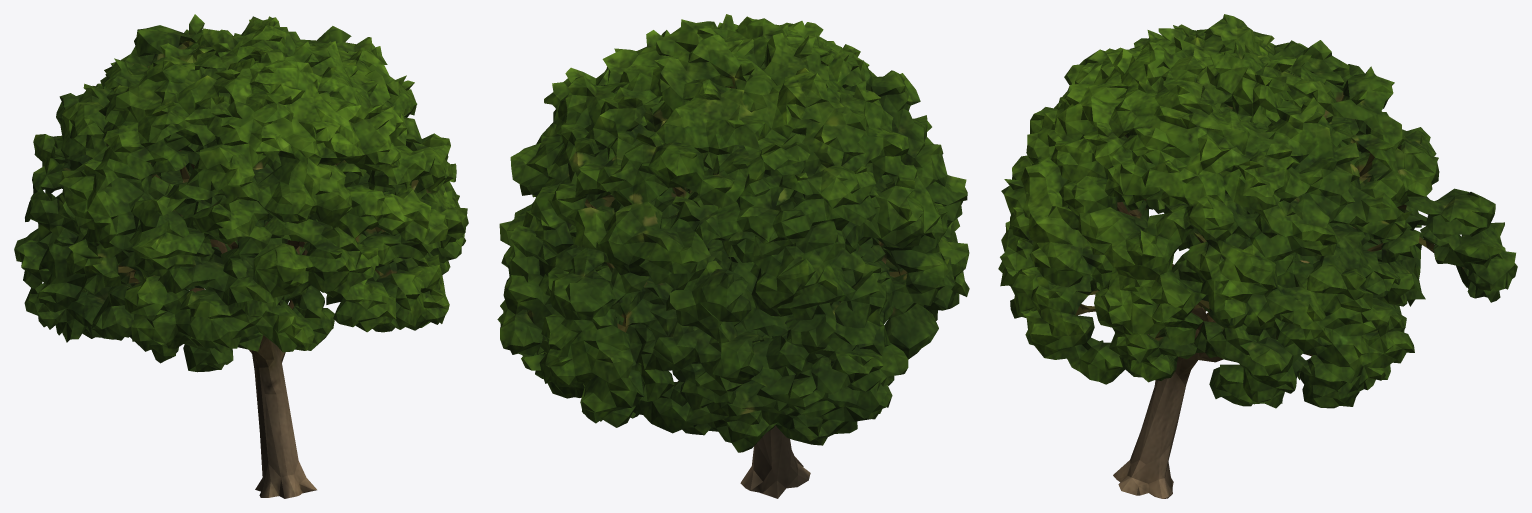
File: tree.fbx
3 renders of one model, left to right at view 1: azimuth 30°, elevation 25°; view 2: azimuth 150°, elevation 25°; view 3: azimuth 270°, elevation 25°, orthographic. The views are drawn at different scales.
Visible parts, largest first — view 1: Mesh_0; view 2: Mesh_0; view 3: Mesh_0.
Boxes of the visible parts, x1=… form: Mesh_0: x1=14, y1=14, x2=468, y2=498; Mesh_0: x1=497, y1=14, x2=969, y2=498; Mesh_0: x1=998, y1=14, x2=1517, y2=498.
Size of the model in its own units: 7.19 by 8 by 8.38.
1 material, 1 textured.
